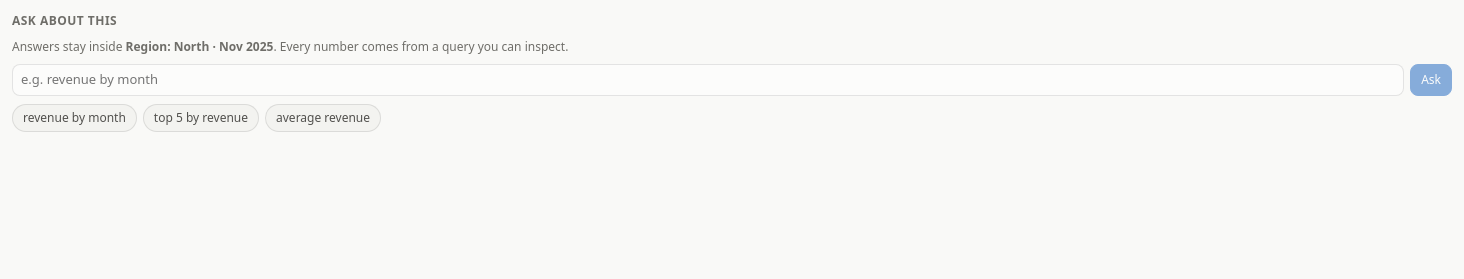
AskInContext › asks inside the drilled slice and shows how it was computed
Expected: the text "Region: North · Nov 2025" is shown, [126,38,273,55]
Step 1. Type "total revenue" into the field named "question" → [708, 80], box [12,64,1404,96]
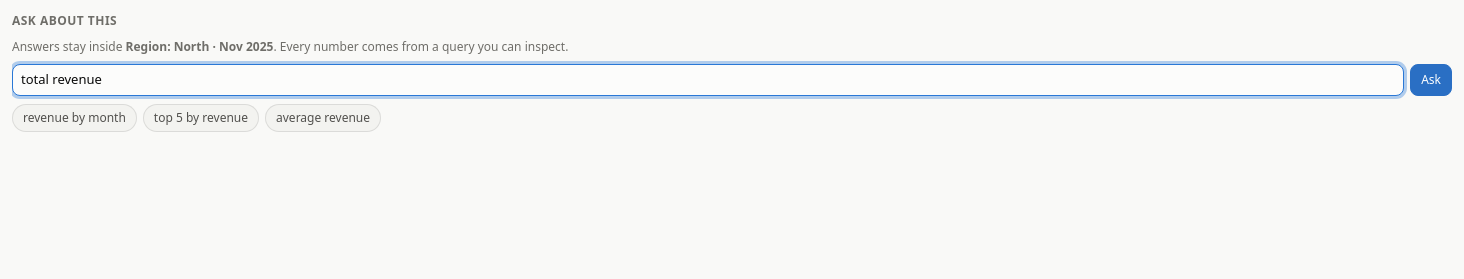
Step 2. Click the button "Ask" → [1431, 80], box [1410,64,1452,96]
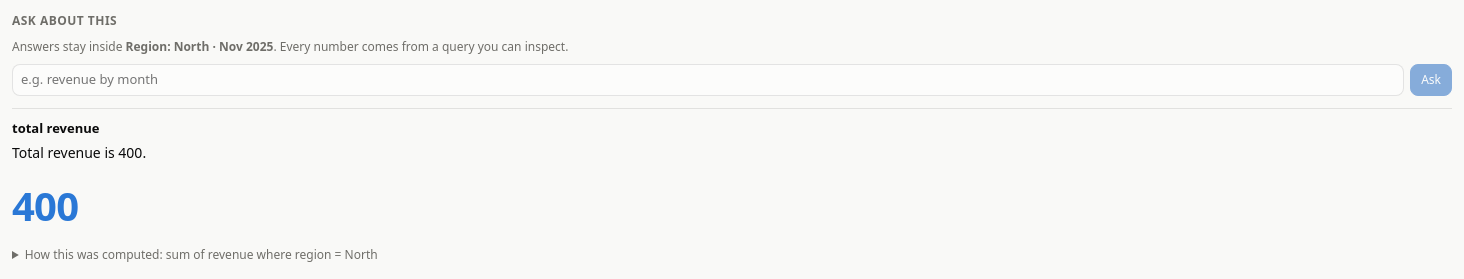
Now the text "Total revenue is 400." is shown, box [12,143,146,162]
Now the heading "How this was computed: sum of revenue where region = North" is shown, box [25,246,378,263]
